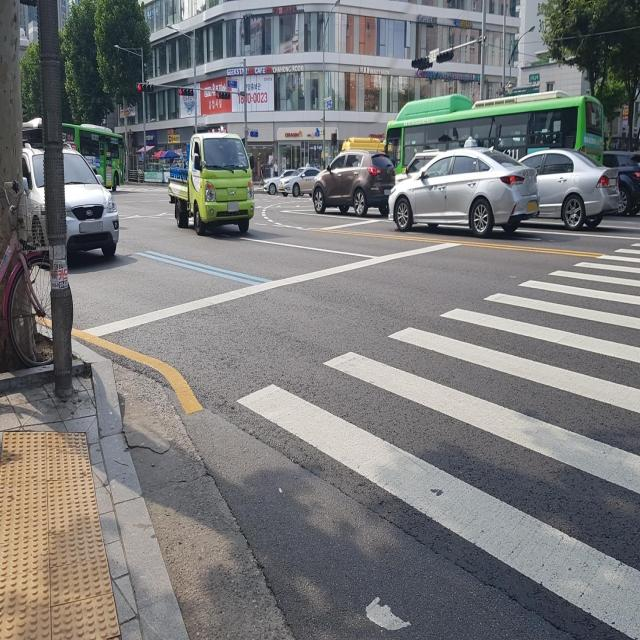횡단보도: (233, 243, 640, 640)
